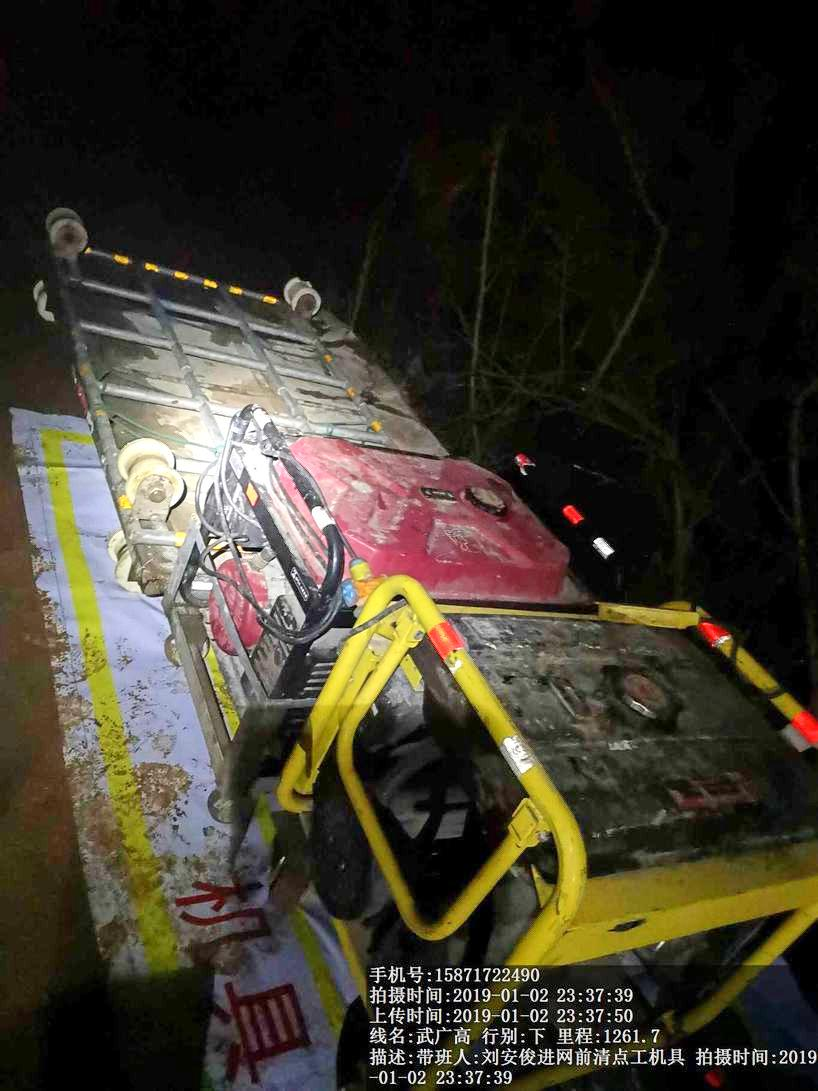DJ: (253, 605, 814, 1005), (168, 428, 604, 605)
